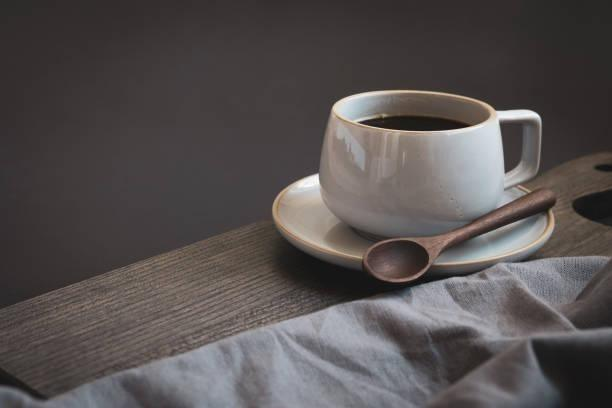cup-handle: (317, 88, 543, 239)
